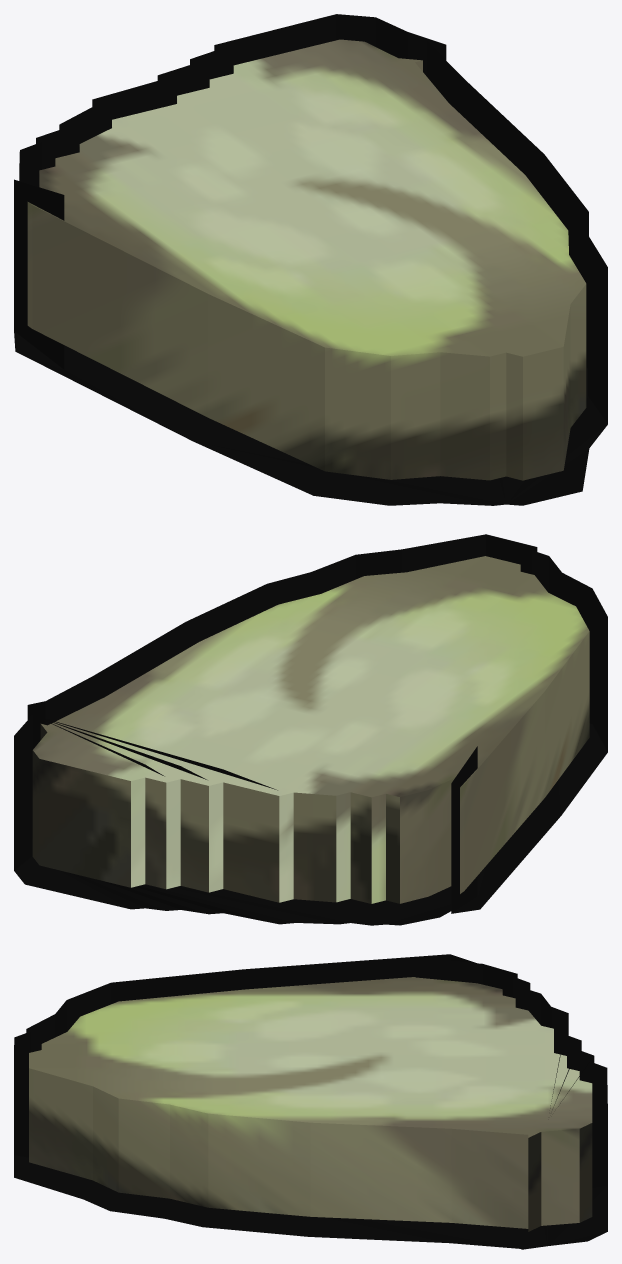
File: Building_EggSac_Things_Building_EggSac_EggSacC.glb
3 renders of one model, top to bottom at view 1: azimuth 30°, elevation 25°; view 2: azimuth 150°, elevation 25°; view 3: azimuth 270°, elevation 25°, orthographic. The views are drawn at different scales.
Visible parts, largest first — view 1: Body, Outline; view 2: Body, Outline; view 3: Body, Outline.
Part boxes in pixels (x1,y1,x2,y2): Body: [27, 39, 586, 480]; Outline: [14, 14, 607, 505]; Body: [32, 556, 589, 903]; Outline: [14, 534, 607, 925]; Body: [29, 977, 592, 1231]; Outline: [14, 954, 607, 1249].
Bounding box in the file's own units: 0.9143 × 0.3196 × 1.29.
2 materials, 1 textured.
